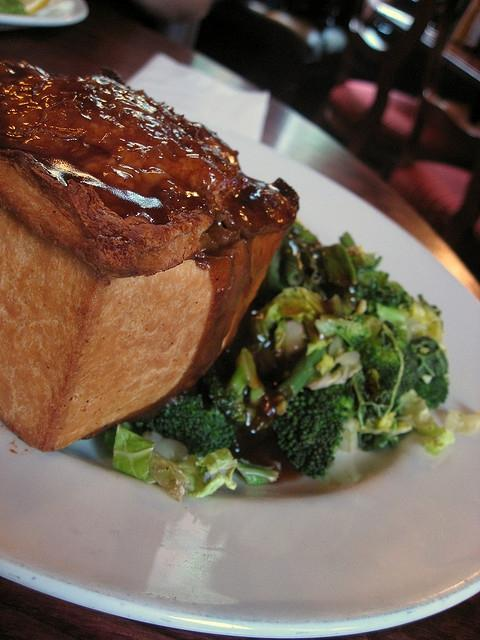broccoli: (273, 349, 339, 477), (197, 337, 276, 434), (246, 220, 322, 311), (153, 393, 239, 457), (358, 340, 420, 407), (314, 314, 372, 353), (104, 422, 146, 454), (414, 376, 449, 408), (361, 432, 398, 450), (370, 274, 392, 304), (302, 315, 320, 345)
